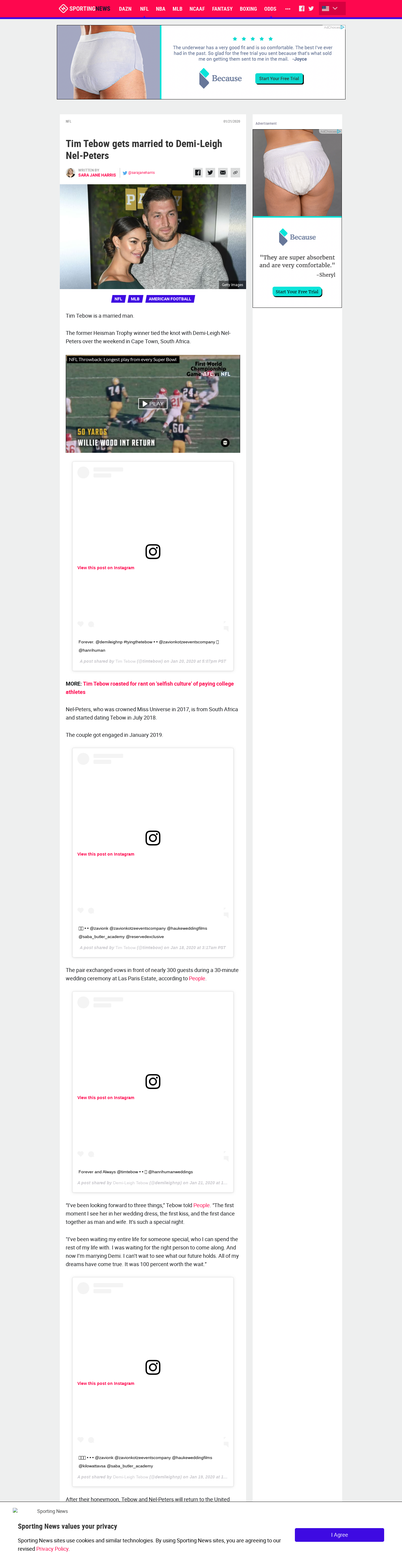fake_button: (255, 73, 303, 85), (272, 287, 321, 297), (138, 397, 167, 409)
